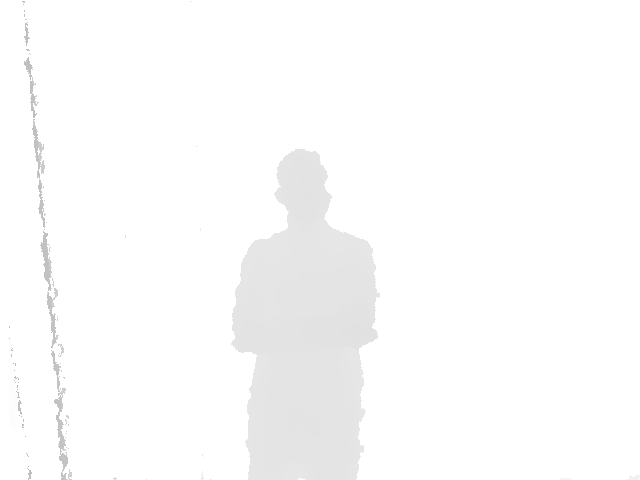head: (274, 148, 333, 222)
person: (229, 147, 381, 480)
